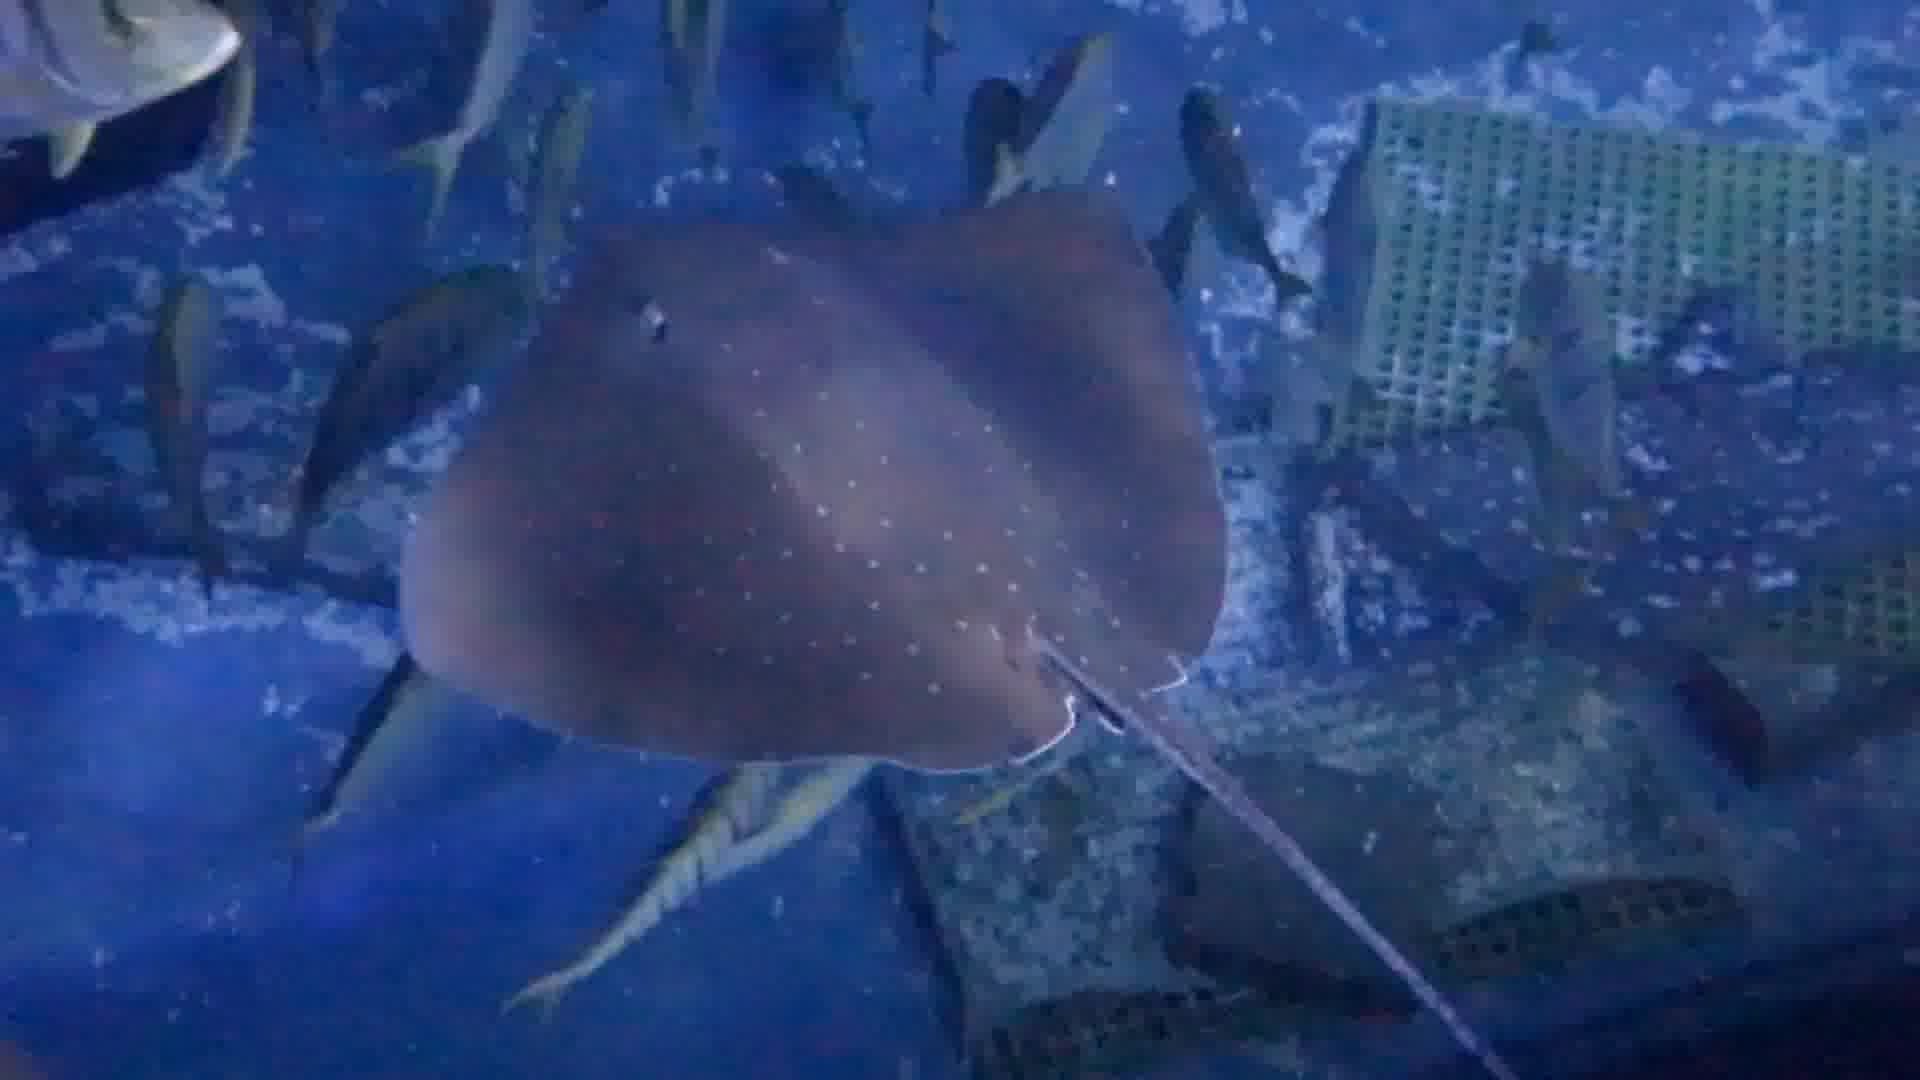Himantura gerrardi: (397, 193, 1427, 993)
